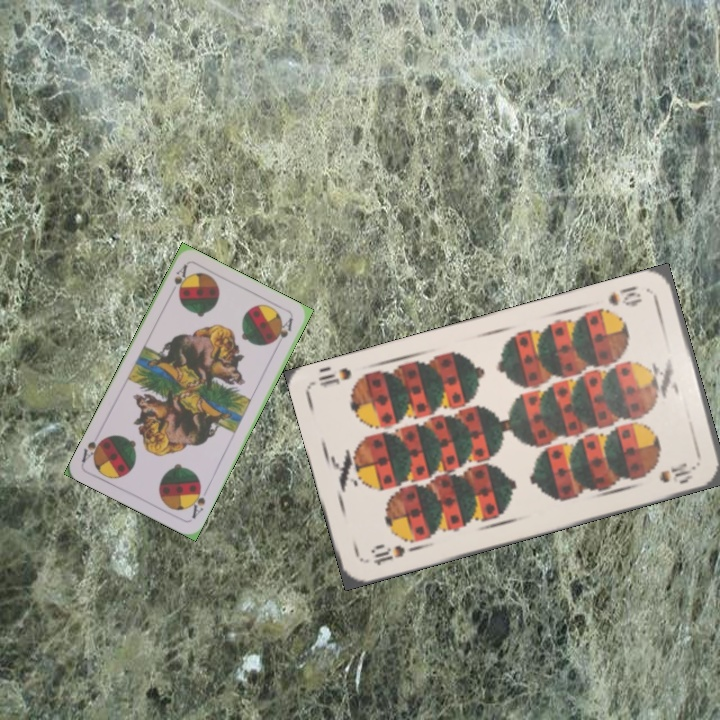S10: (604, 282, 645, 309), (367, 541, 408, 568)
SA: (165, 260, 190, 299), (186, 481, 208, 522)
